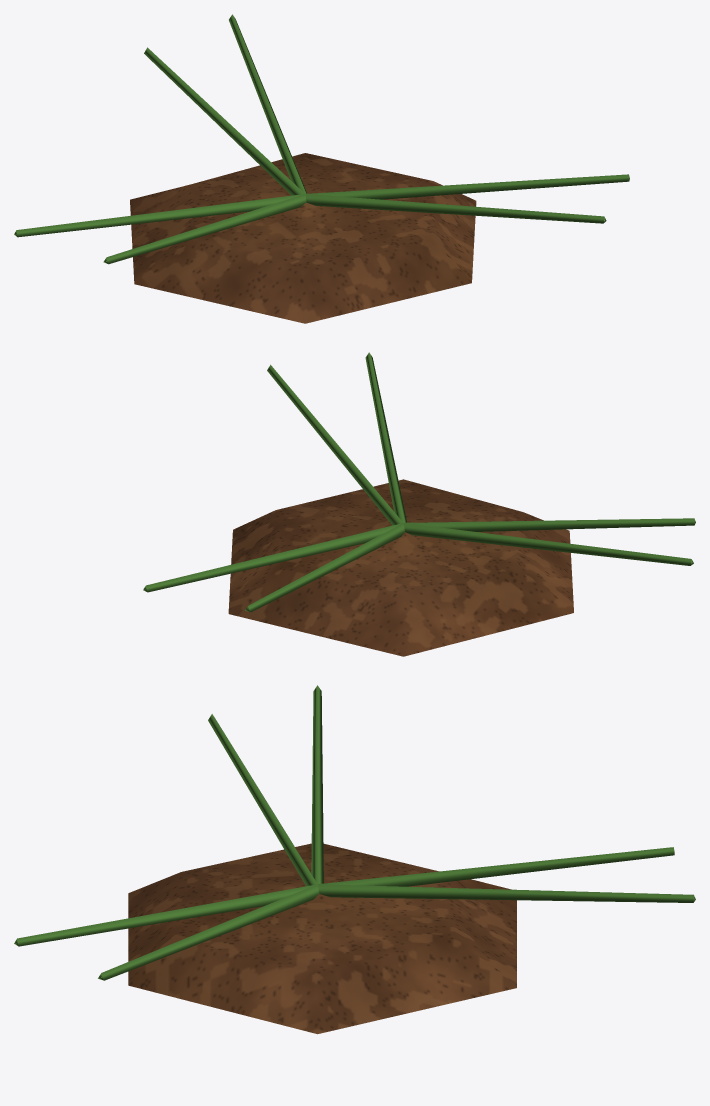
Rendered from plant-pumpkin-4-far.glb.
3 views of the same model, one above another, from view 1: azimuth 30°, elevation 25°; view 2: azimuth 150°, elevation 25°; view 3: azimuth 270°, elevation 25° (orthographic). The views are drawn at different scales.
Visible parts, largest first — view 1: plant-pumpkin-4-far; view 2: plant-pumpkin-4-far; view 3: plant-pumpkin-4-far.
Boxes of the visible parts, box(x1,y1,x2,y2) form: plant-pumpkin-4-far: box(14, 14, 629, 323); plant-pumpkin-4-far: box(143, 352, 695, 656); plant-pumpkin-4-far: box(14, 685, 695, 1034).
Bounding box in the file's own units: 1.67 × 0.1983 × 1.28.
3 materials, 1 textured.
